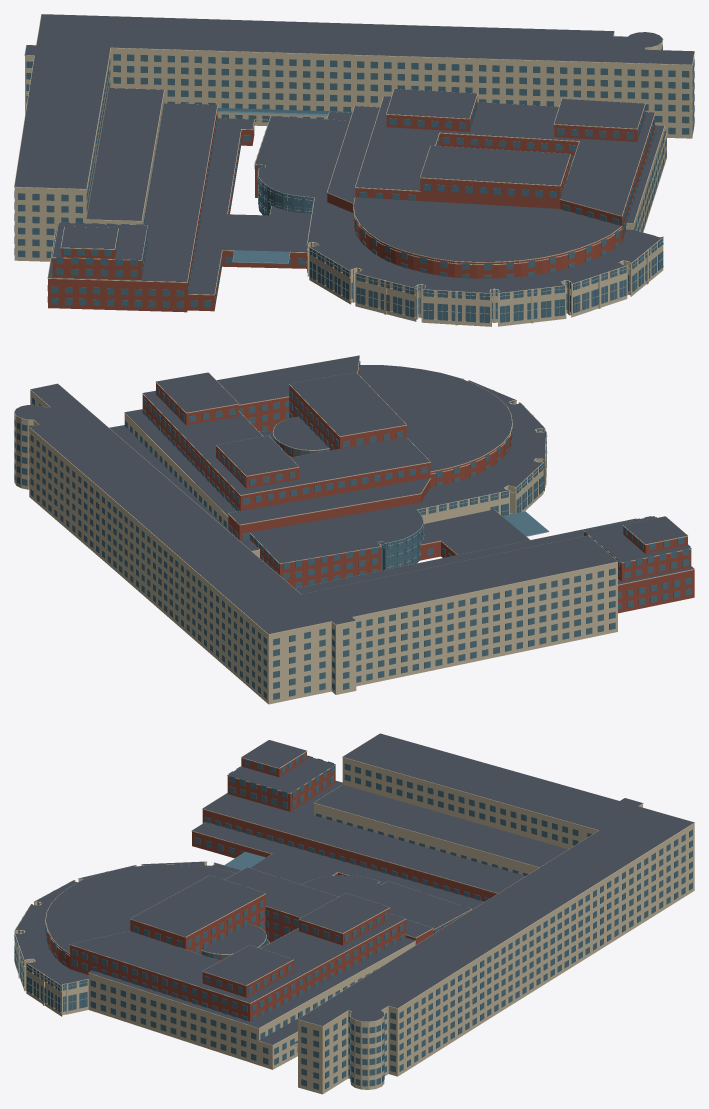
Rendered from stadhuis.glb.
The picture shows the model from 3 angles, top to bottom: view 1: azimuth 30°, elevation 25°; view 2: azimuth 150°, elevation 25°; view 3: azimuth 270°, elevation 25°; orthographic projection. The views are drawn at different scales.
Parts seen in each view (by area): view 1: stadhuis; view 2: stadhuis; view 3: stadhuis.
Part boxes in pixels (box(x1,y1,x2,y2)): stadhuis: box(14, 14, 694, 326); stadhuis: box(14, 355, 694, 704); stadhuis: box(14, 733, 694, 1094).
Size of the model in its own units: 209 by 21.99 by 199.
